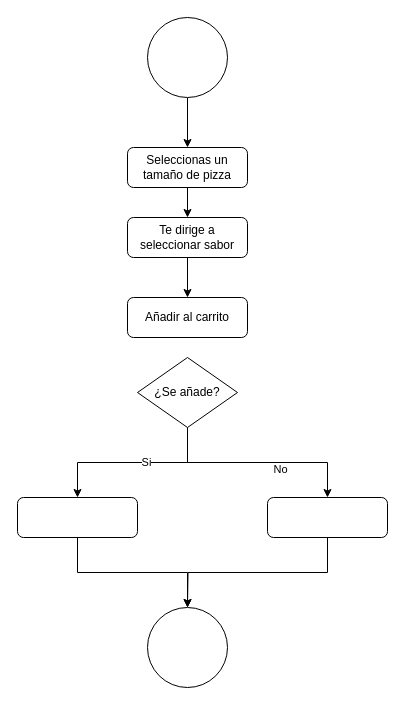
This 405x705 diagram has some shape labels left out. The centre of each missing label's shape, as x and y in pixels:
"No se suma al carrito" goes at point (327, 517).
"Se suma al carrito" goes at point (77, 517).
